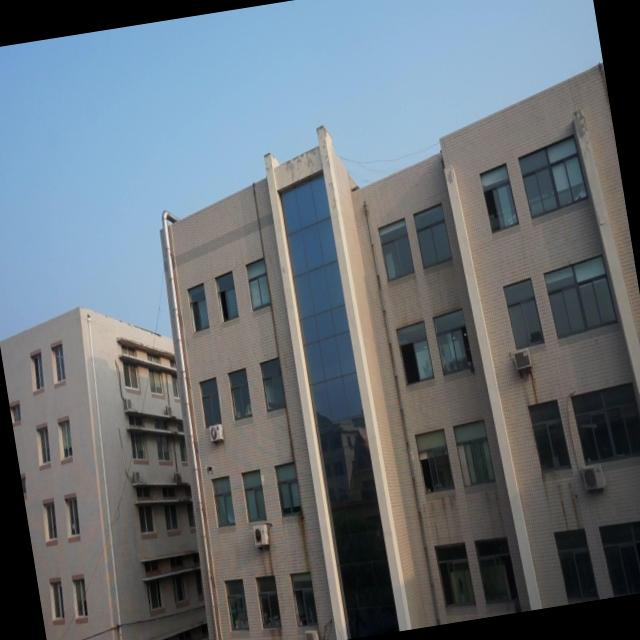drone: (202, 458, 216, 478)
